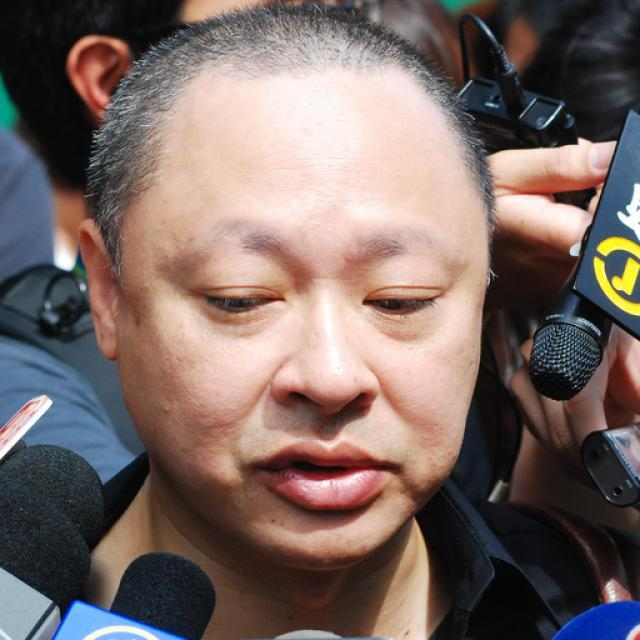neutral: (116, 75, 488, 569)
